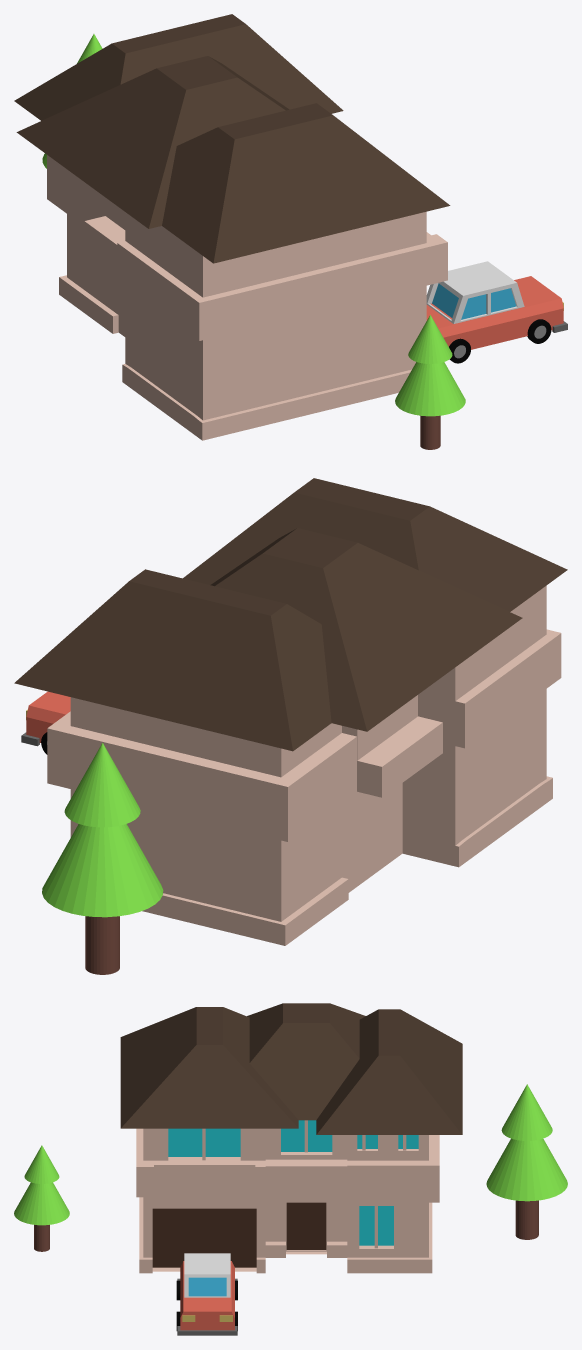
File: fullHouse.glb
3 views of the same model, one above another, from view 1: azimuth 30°, elevation 25°; view 2: azimuth 150°, elevation 25°; view 3: azimuth 270°, elevation 25° (orthographic). The views are drawn at different scales.
Parts seen in each view (by area): view 1: Cube.002, Cube.008, Cube.004, Cube.006, Cube.007, Plane, Cube.001, Cone.002, Cube.022, Cube.003, Cube.005, Cube.023 (+2 smaller); view 2: Cube.007, Cube.006, Cube.003, Cube.001, Cube.008, Cube.002, Cube.004, Cone, Cube.005, Cube, Cone.001, Cylinder.008 (+1 smaller); view 3: Cube.008, Cube.007, Cube.006, Cube.004, Cube.003, Cube.012, Cube.001, Cube, Cone, Cube.005, Cube.002, Plane (+12 smaller).
Boxes of the visible parts, bbox=[...] form: Cube.002: bbox=[122, 288, 426, 440]; Cube.008: bbox=[162, 103, 450, 263]; Cube.004: bbox=[117, 211, 447, 344]; Cube.006: bbox=[16, 56, 289, 228]; Cube.007: bbox=[14, 14, 343, 120]; Plane: bbox=[426, 276, 563, 349]; Cube.001: bbox=[59, 214, 118, 333]; Cone.002: bbox=[395, 362, 465, 416]; Cube.022: bbox=[426, 261, 524, 323]; Cube.003: bbox=[47, 155, 105, 225]; Cube.005: bbox=[84, 197, 125, 270]; Cube.023: bbox=[432, 283, 516, 319]; Cube.007: bbox=[14, 569, 331, 751]; Cube.006: bbox=[210, 528, 522, 731]; Cube.003: bbox=[47, 697, 356, 841]; Cube.001: bbox=[70, 789, 348, 945]; Cube.008: bbox=[183, 478, 567, 611]; Cube.002: bbox=[402, 690, 552, 867]; Cube.004: bbox=[418, 585, 561, 756]; Cone: bbox=[42, 824, 163, 917]; Cube.005: bbox=[342, 695, 442, 797]; Cube: bbox=[342, 783, 402, 892]; Cone.001: bbox=[64, 743, 140, 827]; Cylinder.008: bbox=[85, 916, 119, 974]; Cube.008: bbox=[120, 1007, 298, 1128]; Cube.007: bbox=[316, 1009, 462, 1134]; Cube.006: bbox=[247, 1003, 365, 1120]; Cube.004: bbox=[136, 1128, 265, 1197]; Cube.003: bbox=[347, 1135, 439, 1202]; Cube.012: bbox=[152, 1208, 256, 1267]; Cube.001: bbox=[347, 1202, 432, 1273]; Cube: bbox=[265, 1187, 347, 1257]; Cone: bbox=[486, 1138, 567, 1201]; Cube.005: bbox=[265, 1128, 347, 1186]; Cube.002: bbox=[139, 1197, 265, 1273]; Plane: bbox=[180, 1261, 234, 1330].
Size of the model in its own units: 9.02 by 5.86 by 13.58.
